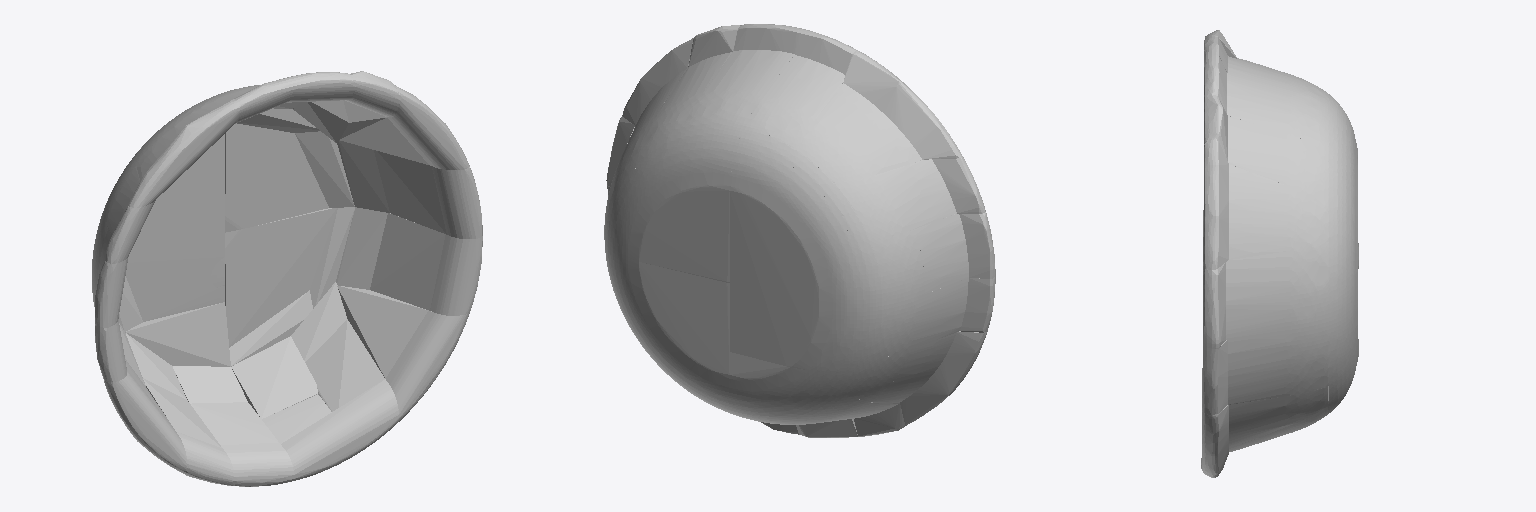
Rendered from coacd_collision.obj.
The picture shows the model from 3 angles: view 1: azimuth 30°, elevation 25°; view 2: azimuth 150°, elevation 25°; view 3: azimuth 270°, elevation 25°; orthographic projection.
Visible parts, largest first — view 1: geometry_1, geometry_2, geometry_3, geometry_23, geometry_39, geometry_0, geometry_27, geometry_22, geometry_15, geometry_47, geometry_16, geometry_38 (+28 smaller); view 2: geometry_1, geometry_3, geometry_2, geometry_18, geometry_0, geometry_16, geometry_44, geometry_49, geometry_52, geometry_53, geometry_26, geometry_14 (+26 smaller); view 3: geometry_21, geometry_38, geometry_39, geometry_10, geometry_49, geometry_3, geometry_22, geometry_19, geometry_46, geometry_29, geometry_40, geometry_45 (+11 smaller).
Boxes of the visible parts, x1,y1,x2,y2 form: geometry_1: [126, 134, 224, 321]; geometry_2: [225, 208, 337, 347]; geometry_3: [225, 123, 328, 232]; geometry_23: [281, 379, 398, 480]; geometry_39: [370, 213, 445, 310]; geometry_0: [125, 302, 230, 366]; geometry_27: [231, 336, 317, 418]; geometry_22: [337, 285, 428, 378]; geometry_15: [386, 311, 469, 421]; geometry_47: [305, 319, 384, 411]; geometry_16: [129, 99, 239, 207]; geometry_38: [374, 150, 446, 234]; geometry_1: [730, 141, 867, 372]; geometry_3: [609, 137, 737, 282]; geometry_2: [608, 245, 739, 412]; geometry_18: [798, 83, 921, 182]; geometry_0: [730, 352, 865, 420]; geometry_16: [843, 50, 961, 159]; geometry_44: [863, 159, 956, 235]; geometry_49: [695, 50, 794, 105]; geometry_52: [761, 55, 844, 120]; geometry_53: [914, 214, 968, 293]; geometry_26: [870, 230, 924, 306]; geometry_14: [900, 331, 987, 425]; geometry_21: [1229, 164, 1328, 259]; geometry_38: [1226, 249, 1298, 339]; geometry_39: [1228, 329, 1300, 404]; geometry_10: [1228, 116, 1304, 193]; geometry_49: [1227, 73, 1304, 139]; geometry_3: [1340, 119, 1358, 317]; geometry_22: [1229, 387, 1327, 447]; geometry_19: [1203, 138, 1228, 269]; geometry_46: [1299, 242, 1328, 328]; geometry_29: [1203, 263, 1225, 348]; geometry_40: [1301, 323, 1328, 392]; geometry_45: [1202, 340, 1227, 414].
Size of the model in its own units: 131 by 131 by 46.33.